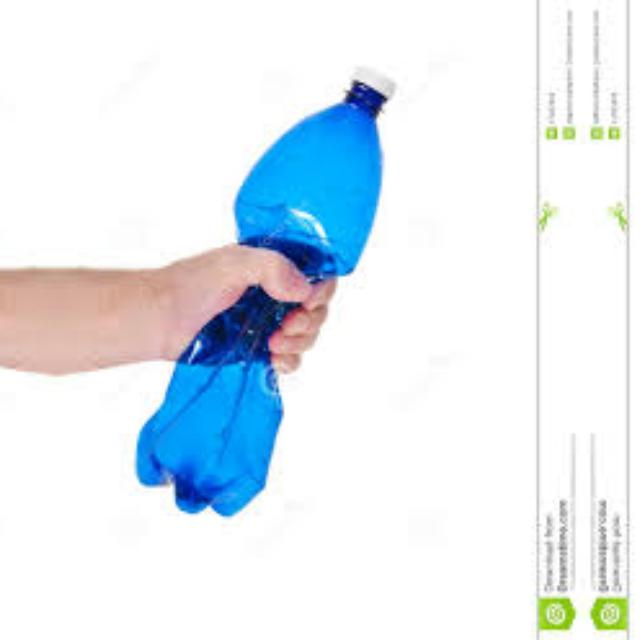Plastic: (134, 49, 428, 529)
